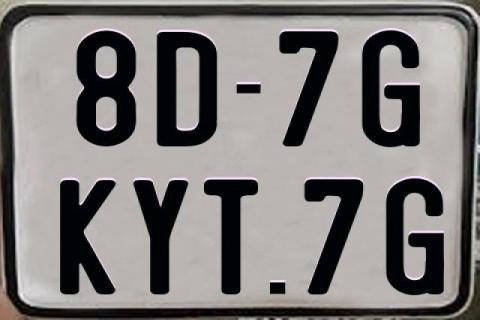0: (303, 177, 368, 296), (76, 28, 141, 146), (277, 30, 338, 146)
D: (155, 30, 216, 150)
G: (361, 28, 423, 148), (384, 177, 444, 295)
K: (57, 180, 118, 296)
T: (203, 178, 258, 298)
Y: (130, 180, 189, 298)
